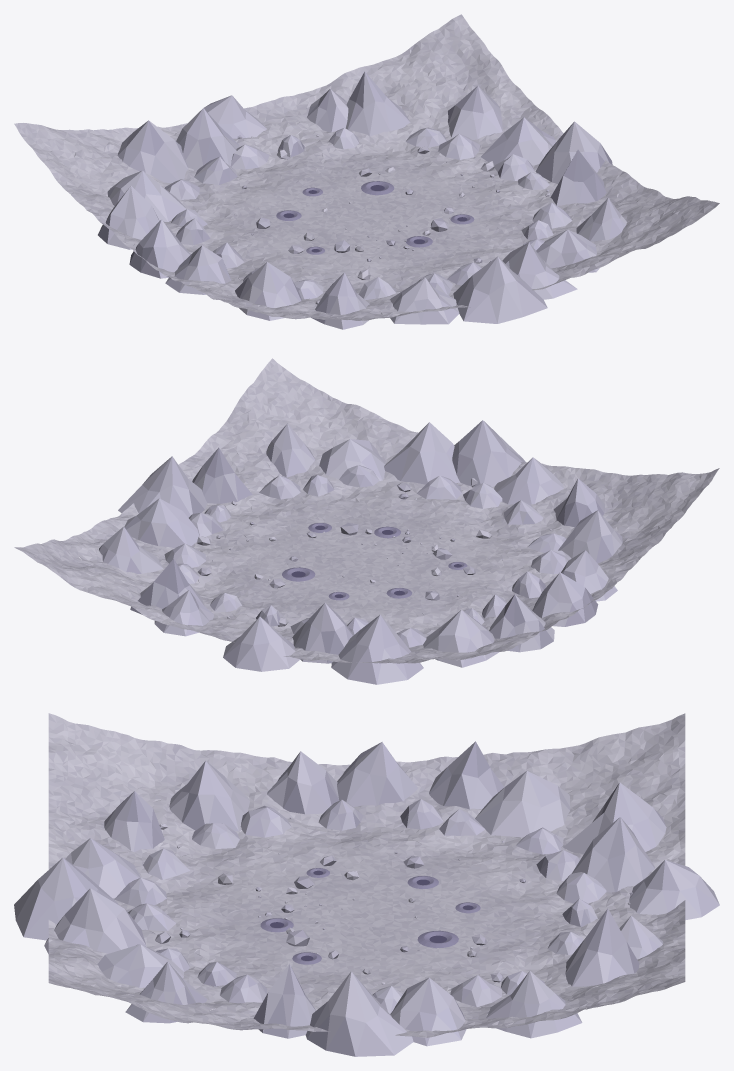
Rendered from moon_world.glb.
3 renders of one model, top to bottom at view 1: azimuth 30°, elevation 25°; view 2: azimuth 150°, elevation 25°; view 3: azimuth 270°, elevation 25°, orthographic. The views are drawn at different scales.
Parts seen in each view (by area): view 1: Surface, Malla_roca2, Malla_roca, Malla_crater_borde; view 2: Surface, Malla_roca2, Malla_roca, Malla_crater_borde; view 3: Surface, Malla_roca2, Malla_roca, Malla_crater_borde.
Part boxes in pixels (<box>): Surface: <box>14,14,719,320</box>; Malla_roca2: <box>98,71,626,329</box>; Malla_roca: <box>234,134,550,304</box>; Malla_crater_borde: <box>276,181,474,254</box>; Surface: <box>14,358,719,663</box>; Malla_roca2: <box>99,420,622,684</box>; Malla_roca: <box>197,478,551,626</box>; Malla_crater_borde: <box>282,523,467,600</box>; Surface: <box>48,713,685,1037</box>; Malla_roca2: <box>14,741,719,1056</box>; Malla_roca: <box>135,817,632,986</box>; Malla_crater_borde: <box>260,868,480,964</box>.
Size of the model in its own units: 178 by 22.31 by 188.
